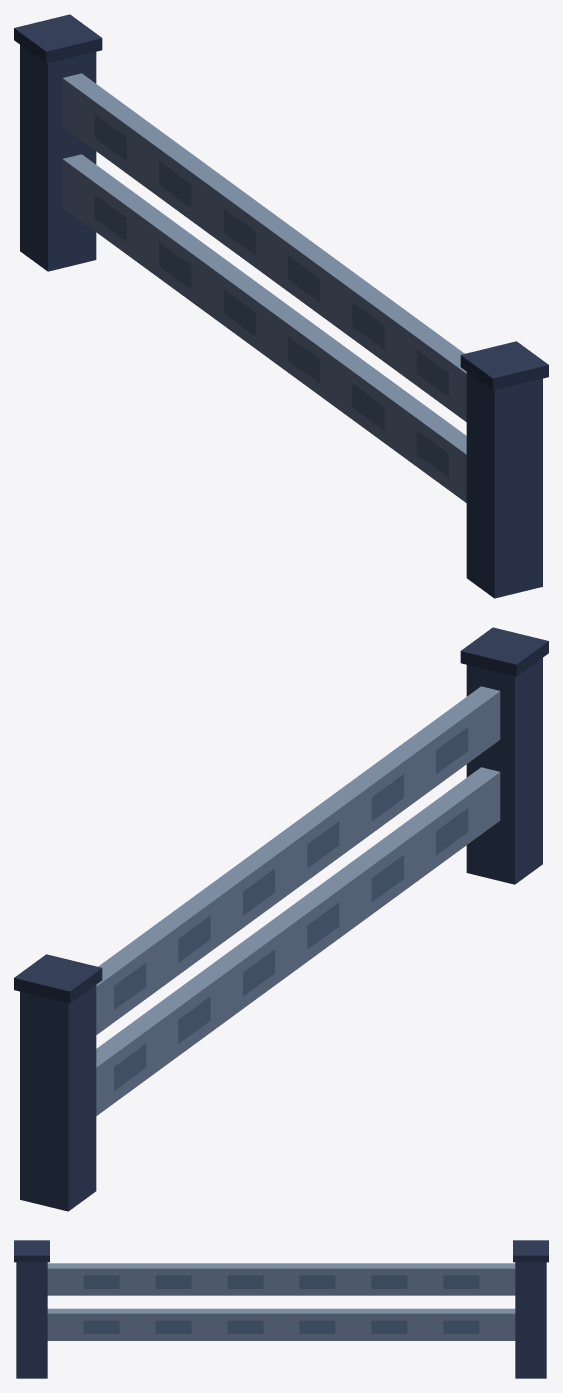
File: fence_metal.glb
3 views of the same model, one above another, from view 1: azimuth 30°, elevation 25°; view 2: azimuth 150°, elevation 25°; view 3: azimuth 270°, elevation 25° (orthographic). The views are drawn at different scales.
Visible parts, largest first — view 1: fence_metal; view 2: fence_metal; view 3: fence_metal.
Part boxes in pixels (x1=…): fence_metal: x1=14, y1=14, x2=548, y2=598; fence_metal: x1=14, y1=627, x2=548, y2=1211; fence_metal: x1=14, y1=1240, x2=548, y2=1378.
Size of the model in its own units: 0.29 by 1.1 by 4.29.
